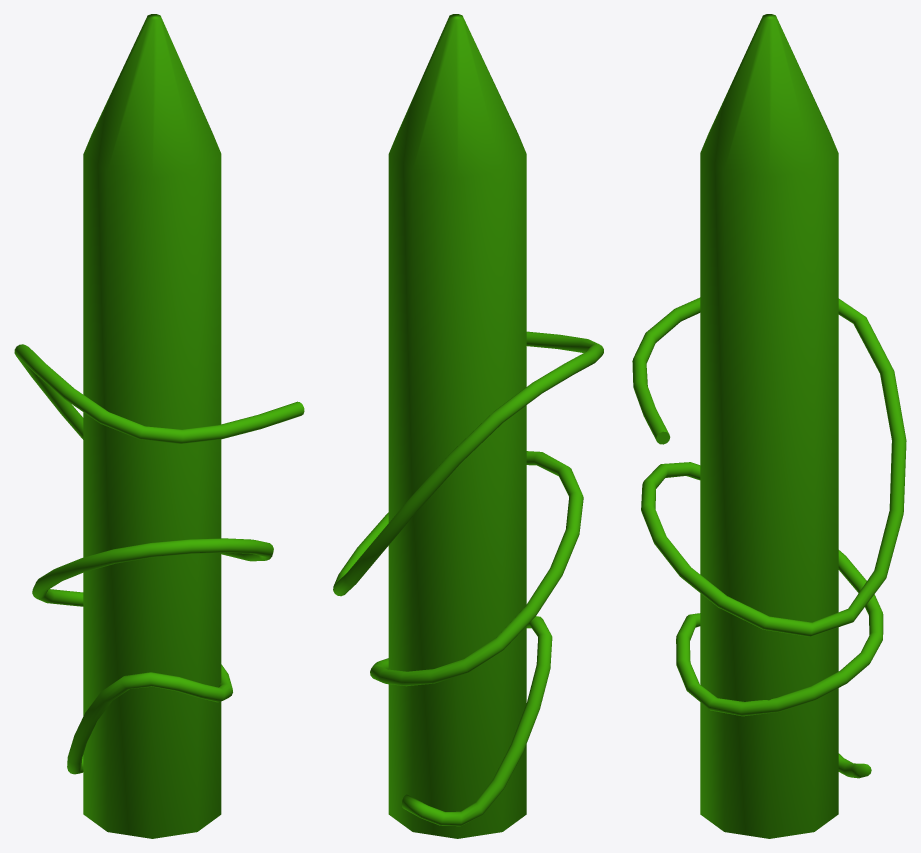
Rendered from lipasis.fbx.
3 renders of one model, left to right at view 1: azimuth 30°, elevation 25°; view 2: azimuth 150°, elevation 25°; view 3: azimuth 270°, elevation 25°, orthographic.
Parts seen in each view (by area): view 1: srivalli1; view 2: srivalli1; view 3: srivalli1.
Part boxes in pixels (box(x1,y1,x2,y2)): srivalli1: box(14, 14, 304, 838); srivalli1: box(333, 14, 603, 838); srivalli1: box(632, 14, 906, 838).
Bounding box in the file's own units: 2.47 × 8.49 × 2.66.
